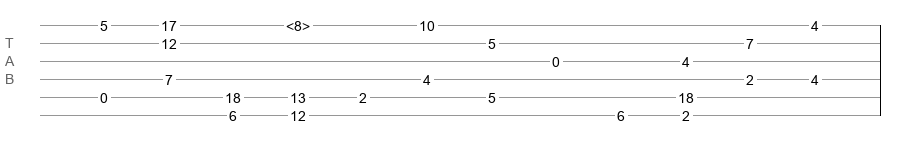0: (100, 90, 108, 100), (552, 54, 560, 64)
10: (419, 18, 435, 28)
12: (161, 36, 177, 46), (290, 108, 306, 118)
13: (290, 90, 306, 100)
17: (161, 18, 177, 28)
18: (225, 90, 241, 100), (678, 90, 694, 100)
2: (359, 90, 367, 100), (682, 108, 690, 118), (746, 72, 754, 82)
4: (423, 72, 431, 82), (682, 54, 690, 64), (811, 18, 819, 28), (811, 72, 819, 82)
5: (100, 18, 108, 28), (488, 36, 496, 46), (488, 90, 496, 100)
6: (229, 108, 237, 118), (617, 108, 625, 118)
7: (165, 72, 173, 82), (746, 36, 754, 46)
harmonic: (286, 18, 310, 28)
